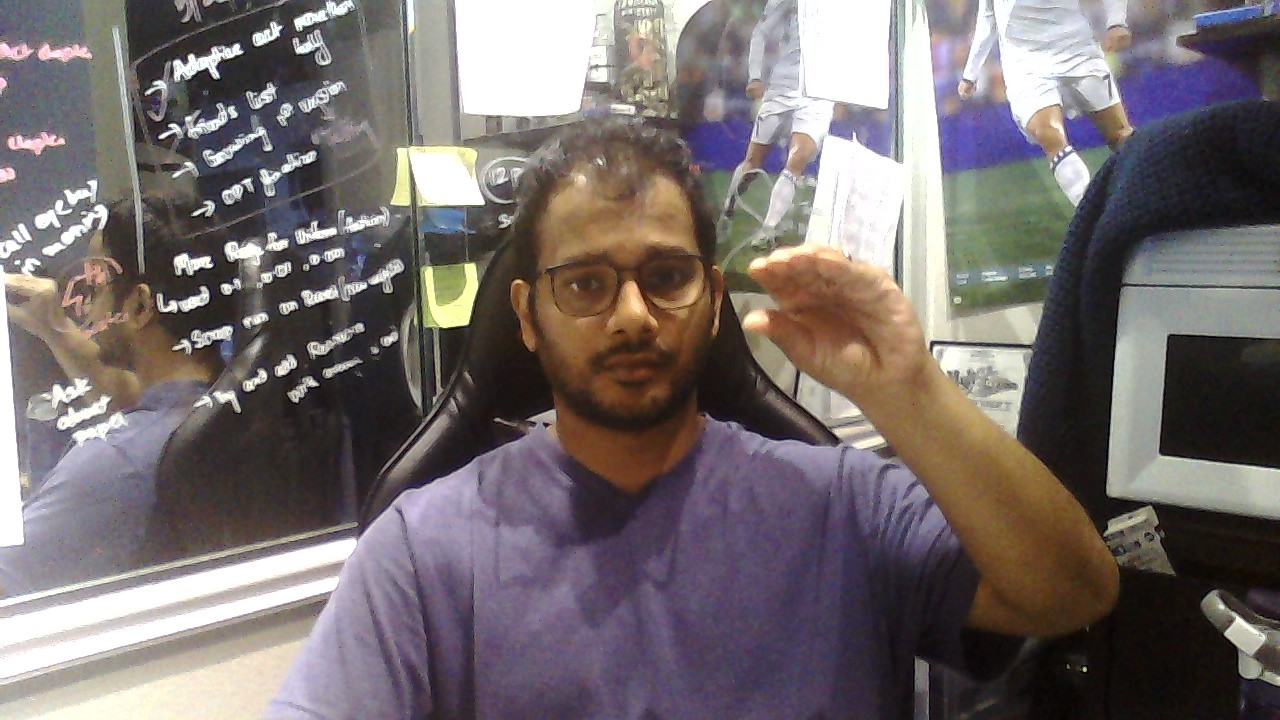No: (742, 244, 929, 387)
